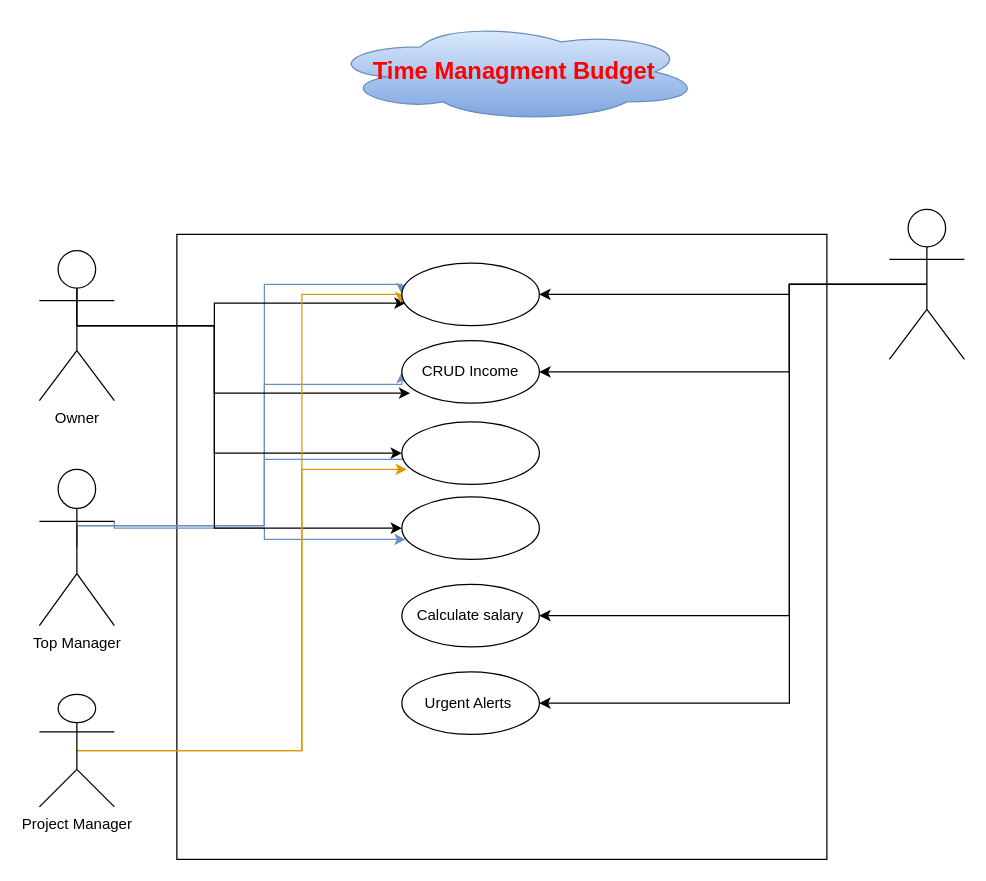
Some shapes in this 986 by 881 pixel diagram are drawn without their labels. Here are the shapes that lost their labels. From the top down, the centre of each, then its label:
At (470,294): "CRUD Expenses".
At (926,283): "System".
At (470,452): "project budget".
At (470,527): "Reports".
